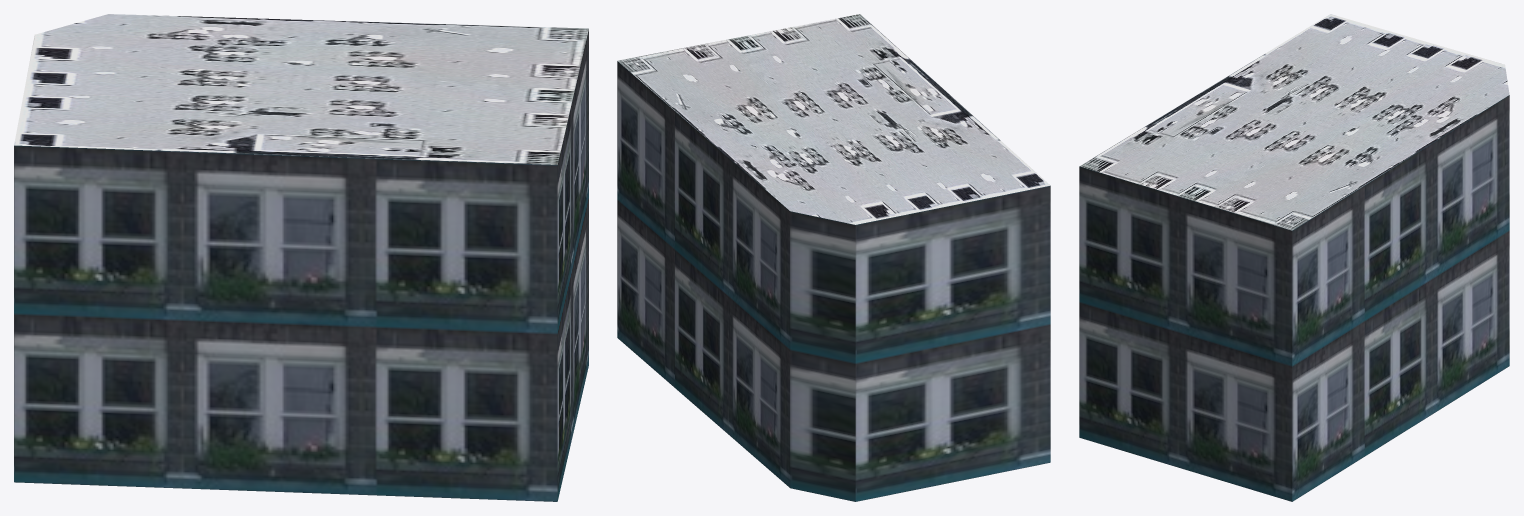
The model's file is ResTex__5056.fbx.
The picture shows the model from 3 angles, left to right: view 1: azimuth 30°, elevation 25°; view 2: azimuth 150°, elevation 25°; view 3: azimuth 270°, elevation 25°; orthographic projection. The views are drawn at different scales.
Visible parts, largest first — view 1: CityEngineMaterial_11_m, CityEngineMaterial_m; view 2: CityEngineMaterial_11_m, CityEngineMaterial_m; view 3: CityEngineMaterial_11_m, CityEngineMaterial_m.
Boxes of the visible parts, bbox=[...] form: CityEngineMaterial_11_m: bbox=[14, 29, 588, 501]; CityEngineMaterial_m: bbox=[14, 14, 588, 164]; CityEngineMaterial_11_m: bbox=[617, 61, 1050, 501]; CityEngineMaterial_m: bbox=[617, 14, 1050, 224]; CityEngineMaterial_11_m: bbox=[1079, 95, 1509, 501]; CityEngineMaterial_m: bbox=[1079, 14, 1509, 230].
Bounding box in the file's own units: 10.27 × 6 × 8.62.
2 materials, 2 textured.
